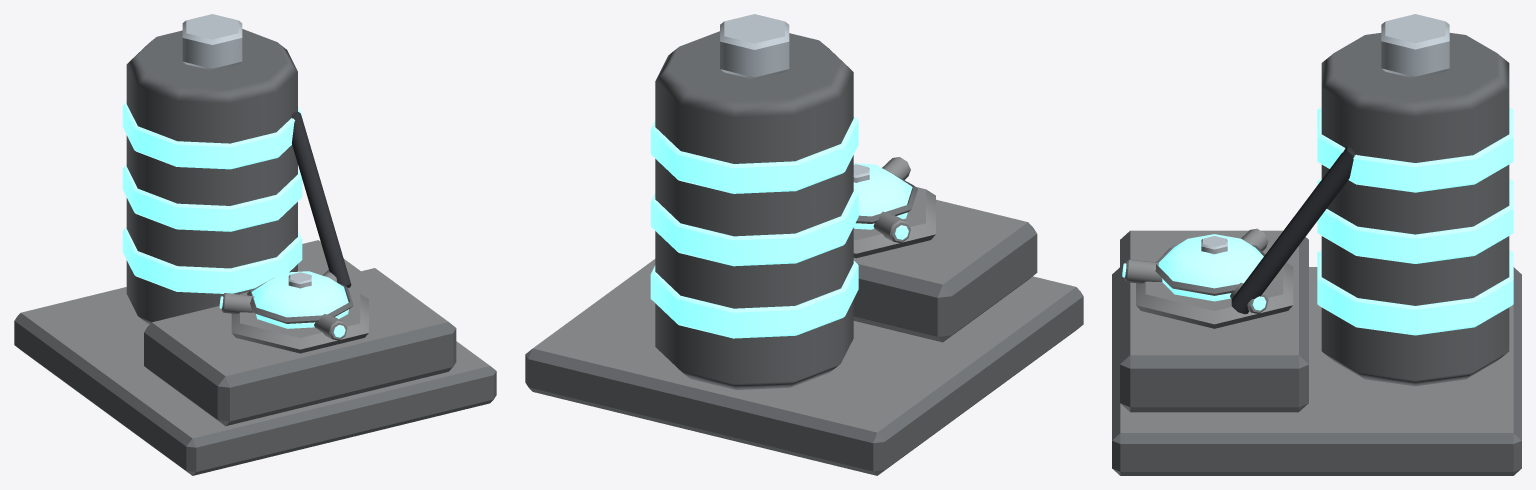
The model's file is R4X_SlowTrapDeployer_LOD1.glb.
The picture shows the model from 3 angles, left to right: view 1: azimuth 30°, elevation 25°; view 2: azimuth 150°, elevation 25°; view 3: azimuth 270°, elevation 25°; orthographic projection. The views are drawn at different scales.
Visible parts, largest first — view 1: R4X_SlowTrapDeployer_LOD1; view 2: R4X_SlowTrapDeployer_LOD1; view 3: R4X_SlowTrapDeployer_LOD1.
Part boxes in pixels (bbox=[...]): R4X_SlowTrapDeployer_LOD1: bbox=[14, 14, 496, 475]; R4X_SlowTrapDeployer_LOD1: bbox=[525, 14, 1083, 475]; R4X_SlowTrapDeployer_LOD1: bbox=[1112, 14, 1521, 475].
Bounding box in the file's own units: 0.52 × 0.51 × 0.52.
